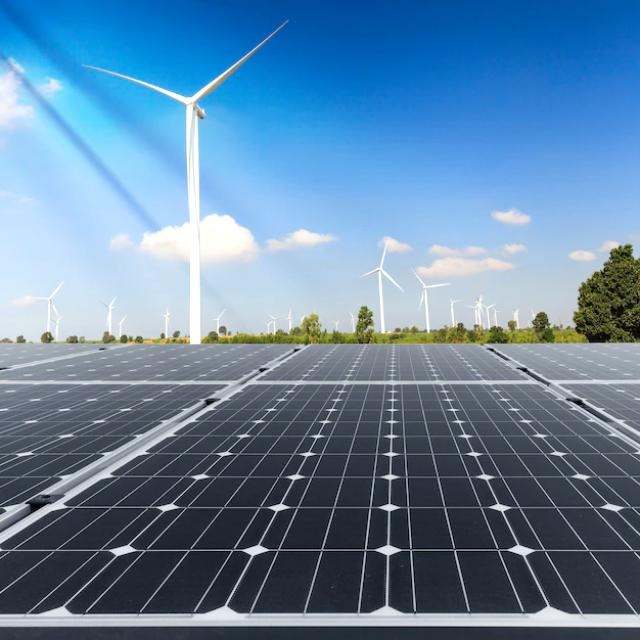crack: (0, 378, 545, 640)
